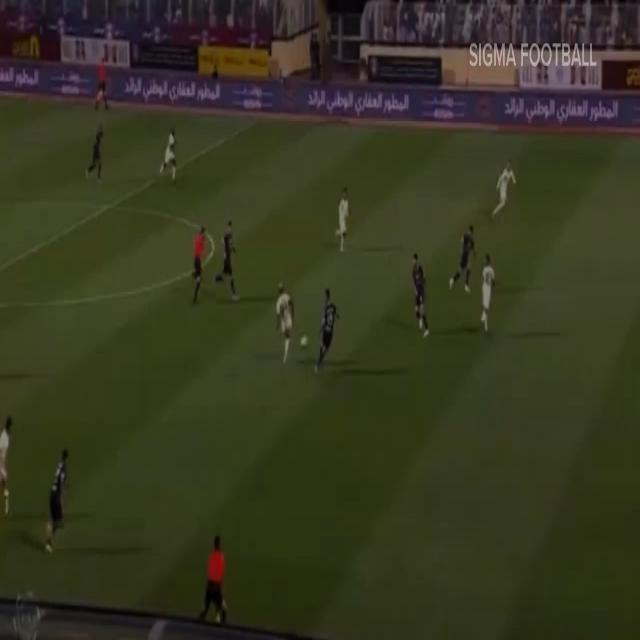ball: (298, 325, 312, 357)
player: (42, 420, 80, 576), (0, 373, 21, 550), (405, 236, 433, 348), (270, 273, 301, 374), (217, 217, 245, 306), (492, 146, 519, 224), (157, 115, 180, 205), (84, 111, 108, 194), (334, 172, 356, 260), (316, 290, 339, 374), (479, 245, 500, 336), (454, 219, 474, 303)
referee: (184, 213, 213, 308)
